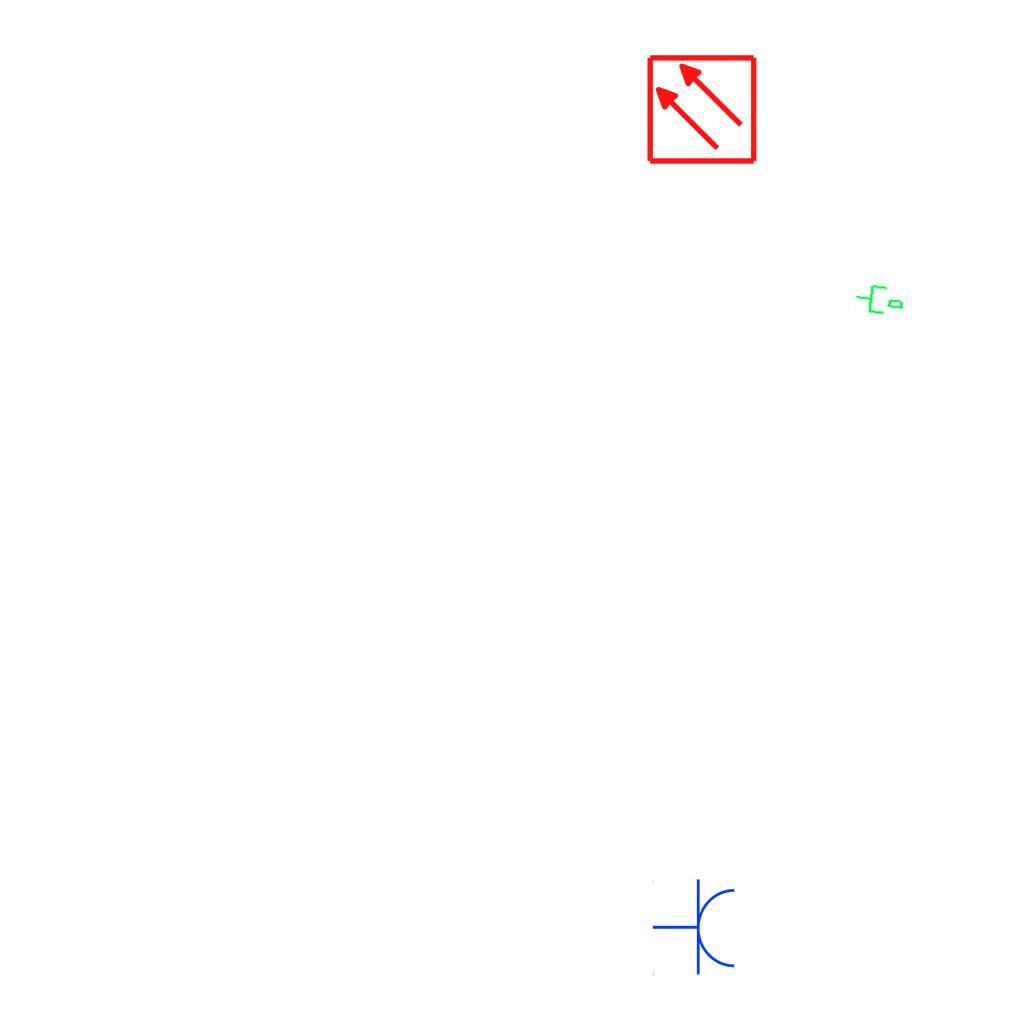Datenanschluss_einfach: (853, 279, 907, 319)
RMO_Rauchmelder_optischer: (645, 53, 758, 166)
Schukosteckdose_einfach: (652, 878, 739, 978)
